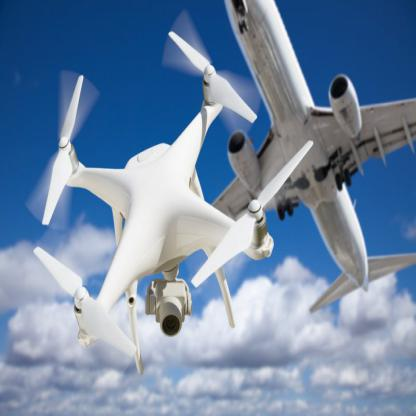CIV_Plane: (204, 2, 416, 312)
